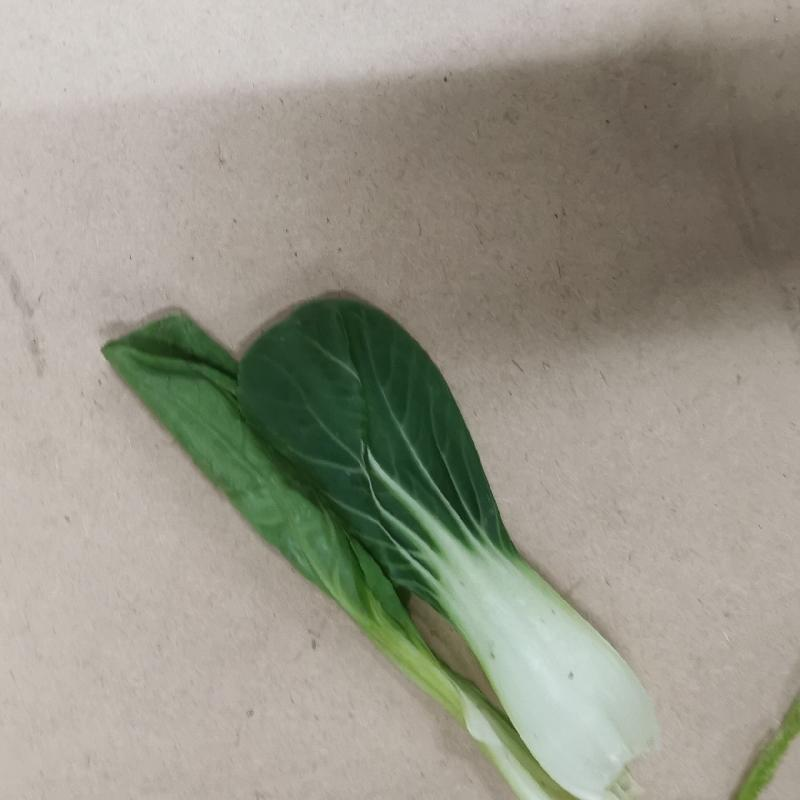green vegatable: (100, 298, 707, 799)
